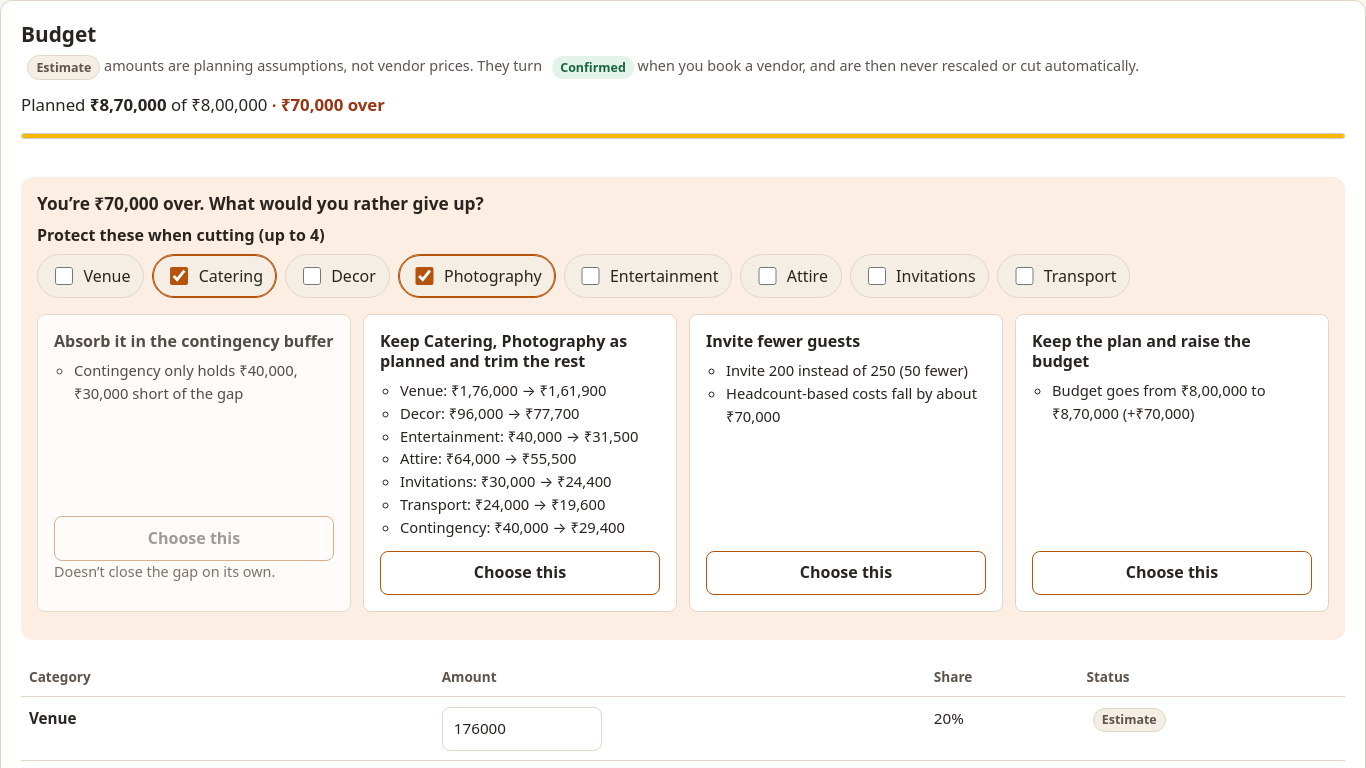
it: BudgetPanel › when the plan is over budget › gives a general message, and clears it after a later success
This screenshot has width=1366, height=768.
Click the checkbox labelled "Venue": (64, 276) [55, 267, 73, 285]
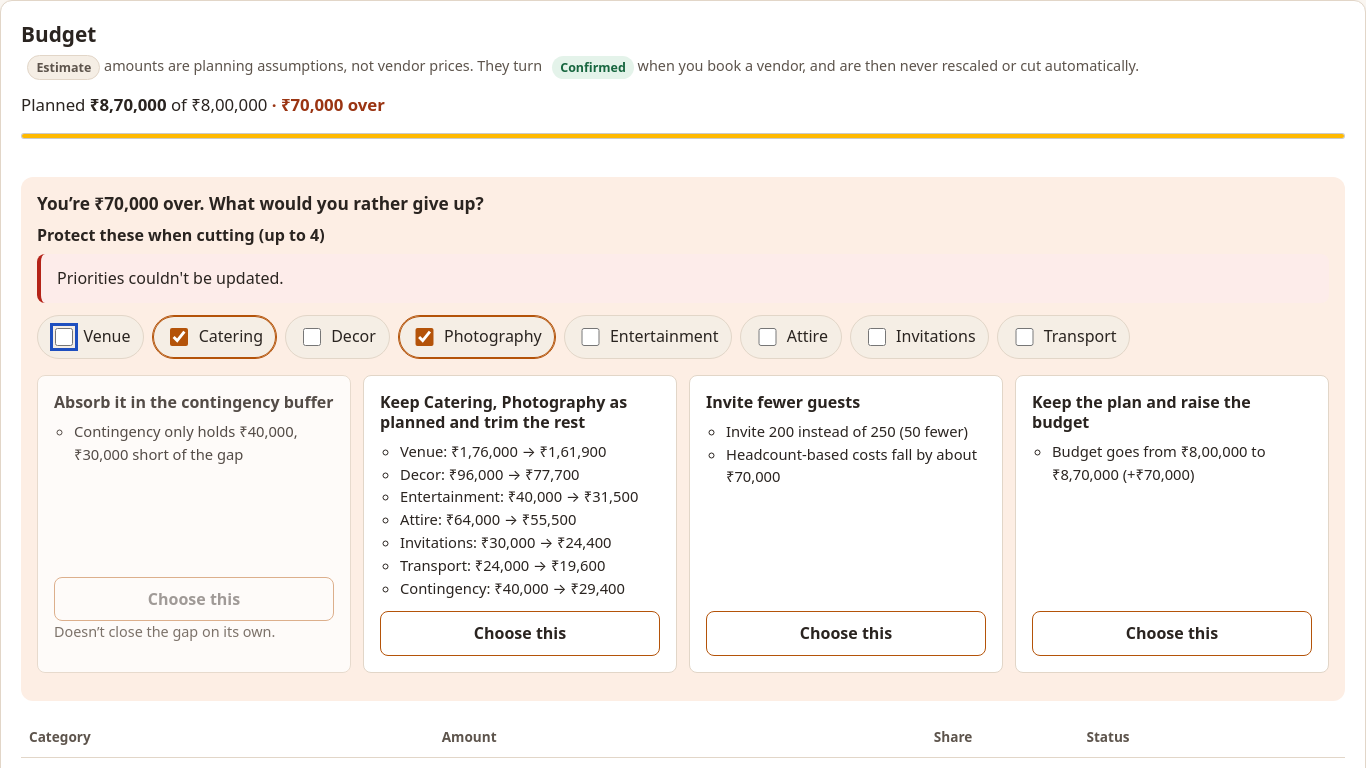
Check: the message reads "Priorities couldn't be updated.", box [57, 267, 284, 289]
Click the checkbox labelled "Venue": (64, 337) [55, 328, 73, 346]
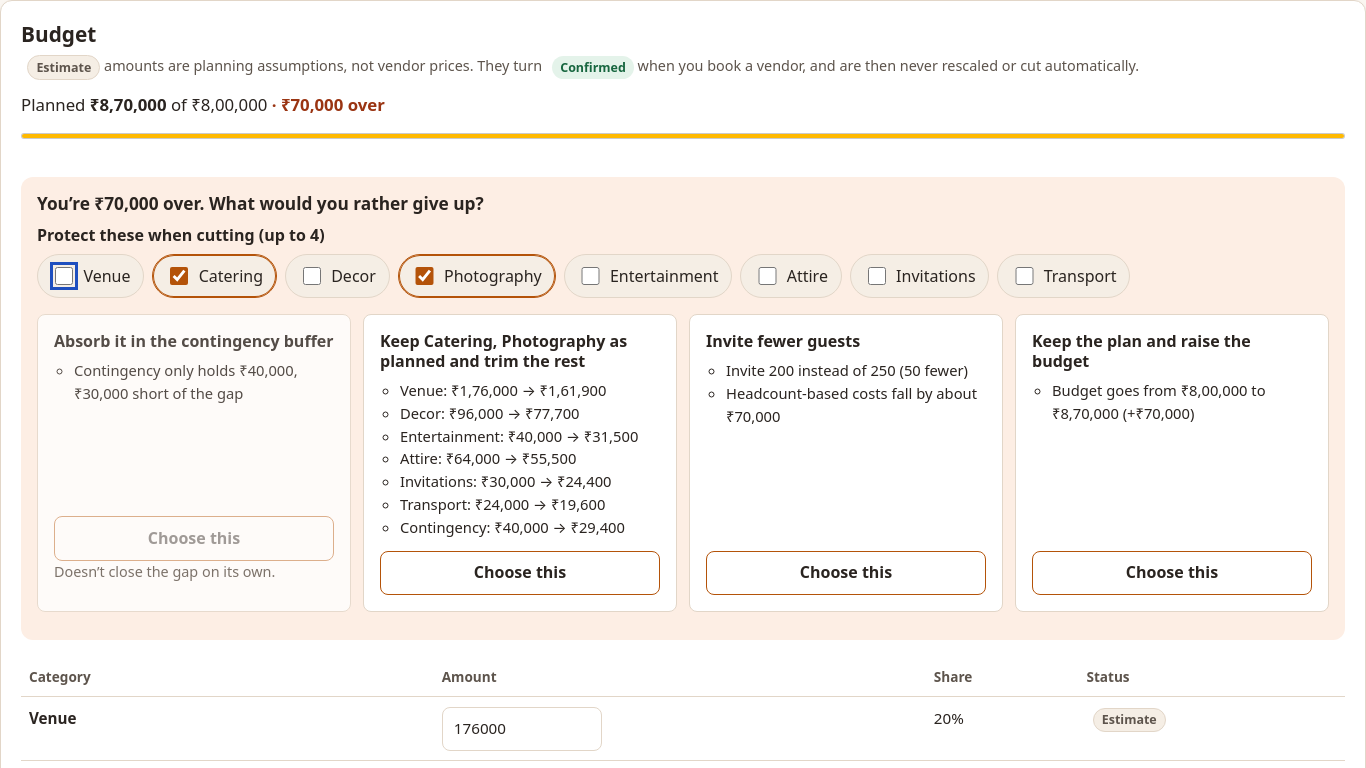
Check: the message "Priorities couldn't be updated." is gone
